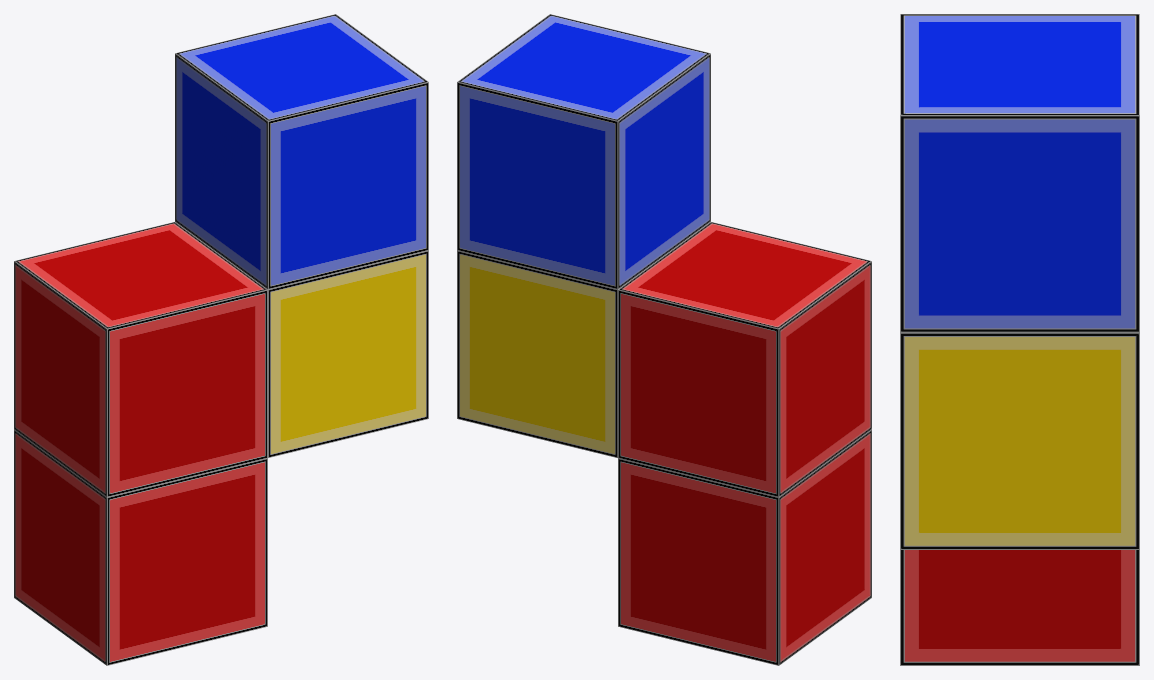
The model's file is tetris1.fbx.
3 renders of one model, left to right at view 1: azimuth 30°, elevation 25°; view 2: azimuth 150°, elevation 25°; view 3: azimuth 270°, elevation 25°, orthographic. The views are drawn at different scales.
Visible parts, largest first — view 1: Cube.001; view 2: Cube.001; view 3: Cube.001.
Part boxes in pixels (<box>): Cube.001: <box>14,14,428,665</box>; Cube.001: <box>457,14,871,665</box>; Cube.001: <box>900,14,1139,665</box>.
Bounding box in the file's own units: 100 × 150 × 50.
